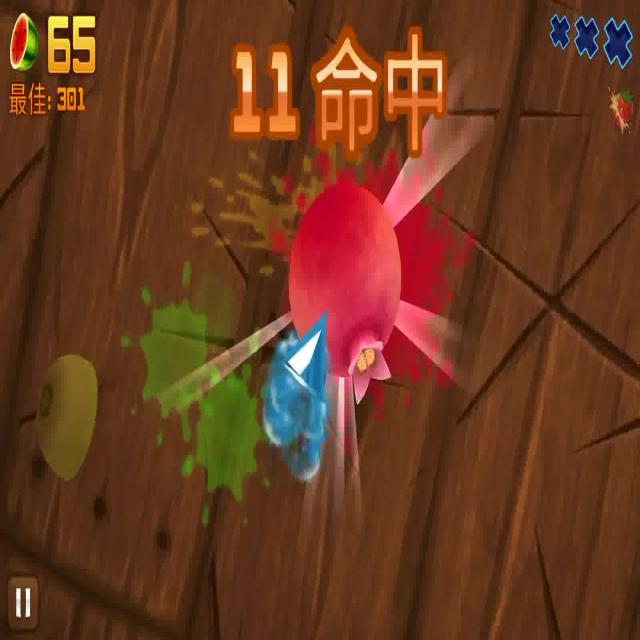fruit: (288, 177, 407, 396), (36, 351, 102, 482)
